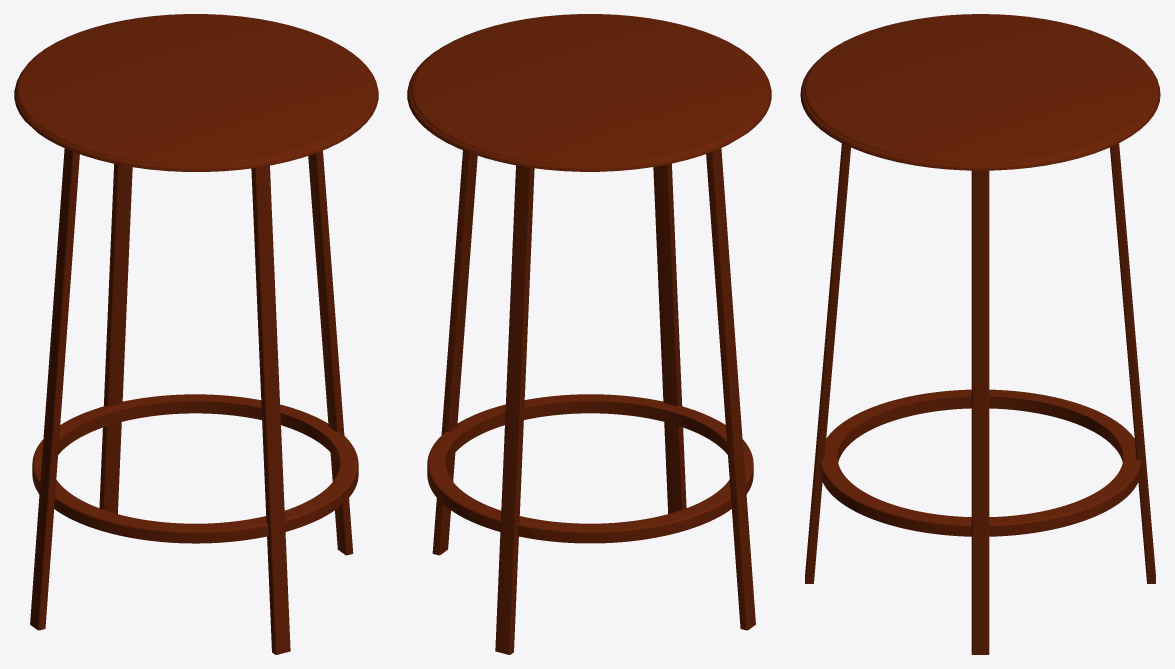
File: rovolvler_table.gltf
3 views of the same model, side by side, from view 1: azimuth 30°, elevation 25°; view 2: azimuth 150°, elevation 25°; view 3: azimuth 270°, elevation 25° (orthographic).
Visible parts, largest first — view 1: Mesh2; view 2: Mesh2; view 3: Mesh2.
Part boxes in pixels (x1,y1,x2,y2): Mesh2: (14,14,378,654); Mesh2: (407,14,771,654); Mesh2: (800,14,1160,654).
Bounding box in the file's own units: 0.7049 × 1.05 × 0.6946.
Materials: 1 (1 with a texture image).
